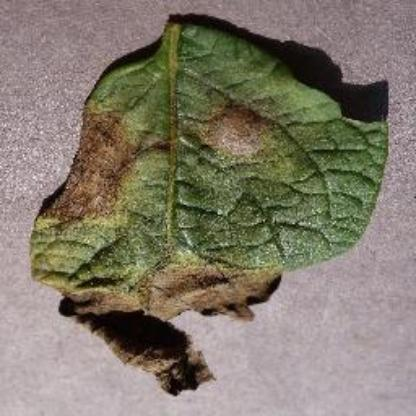Late-Blight: (24, 8, 406, 400)
